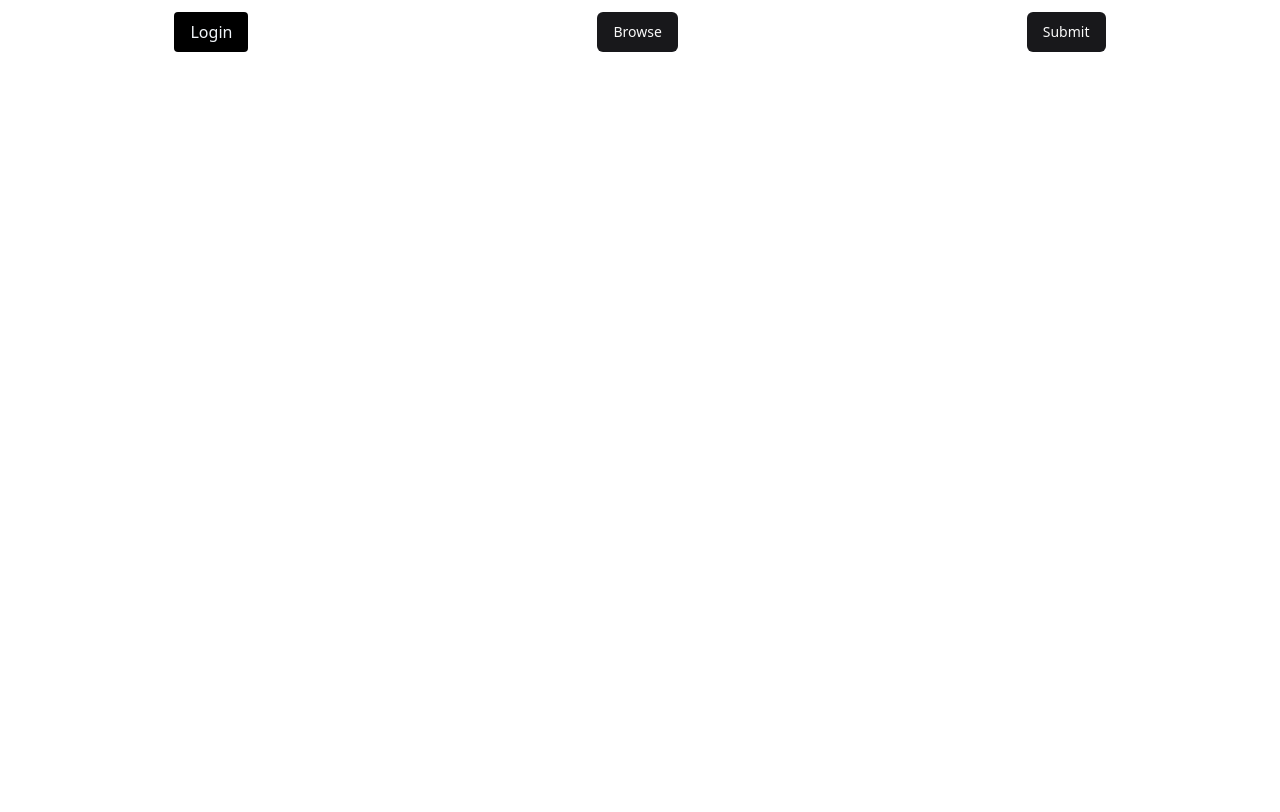
Test: AccountHeader Component › should provide sign up component when clicking sign up
The image size is (1280, 812).
Click the button "Login".
click(211, 32)  # box [174,12,248,52]
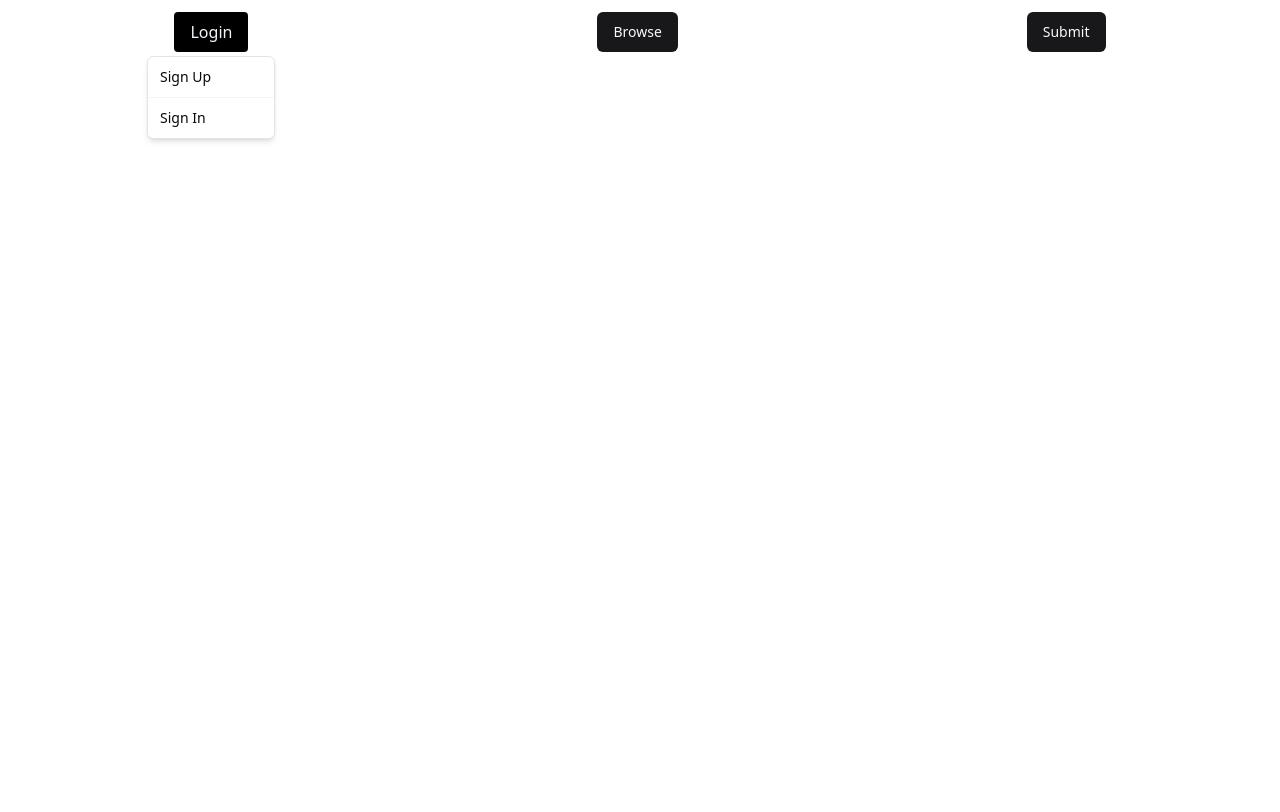
Click the menu item "Sign Up".
click(186, 76)  # box [160,67,211,86]
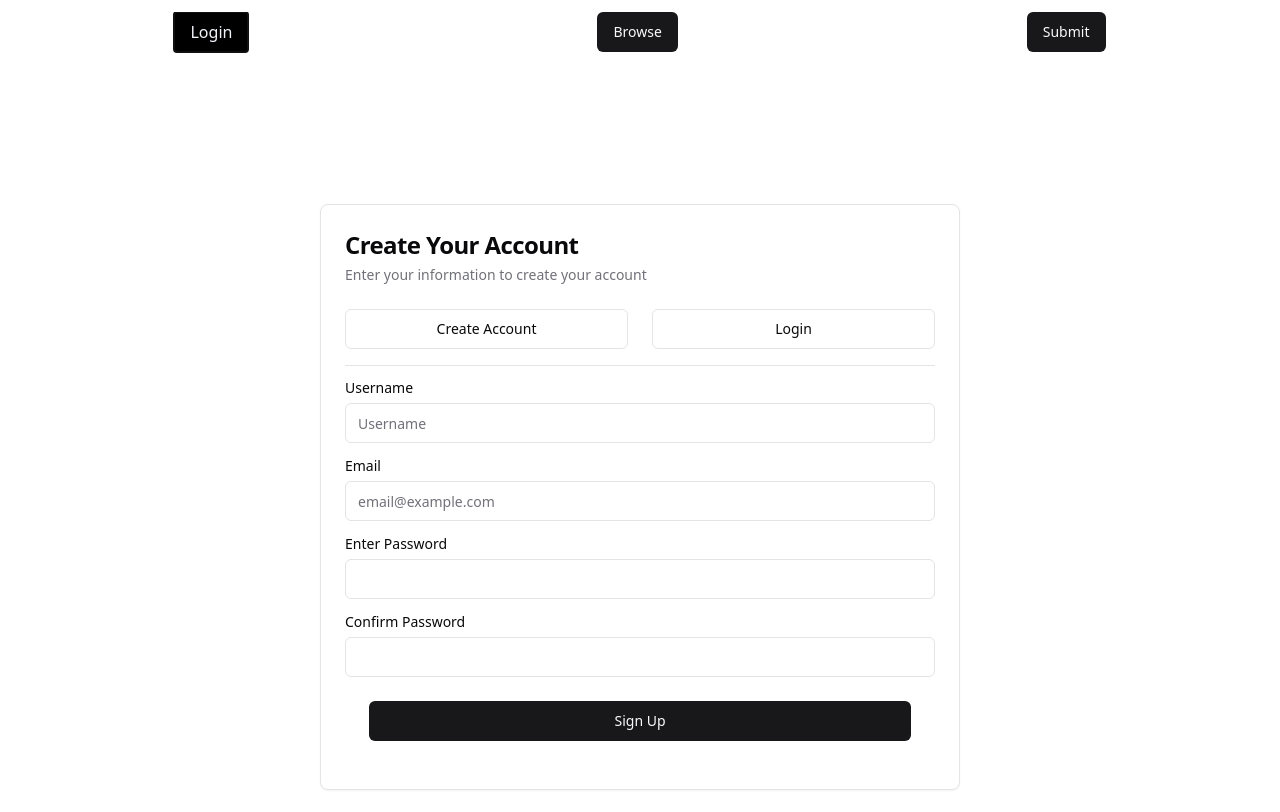
Expected: the text "Confirm Password" is shown, [345,612,465,631]
